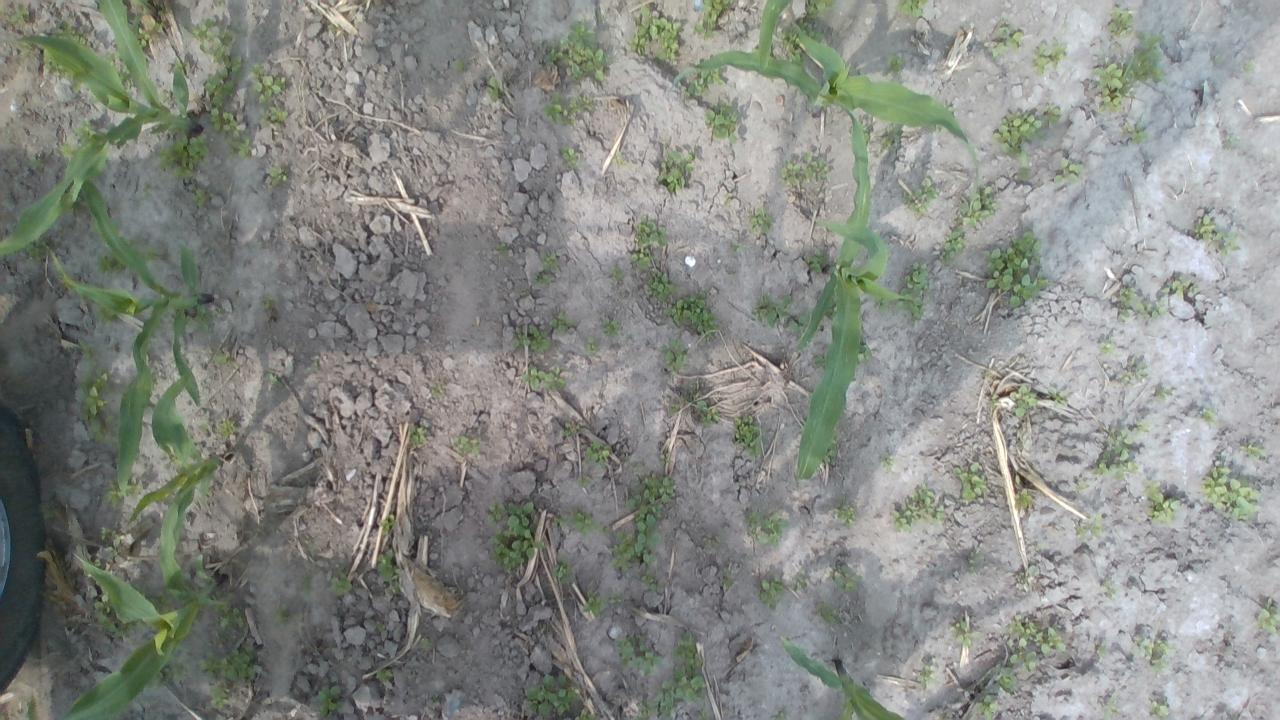Maize: (44, 176, 212, 505), (671, 25, 984, 198), (0, 0, 202, 263), (790, 88, 914, 484), (52, 552, 225, 720), (126, 369, 229, 603), (778, 636, 909, 720), (756, 0, 797, 73)
Weeds: (979, 229, 1050, 308), (191, 16, 246, 110), (624, 470, 676, 568), (656, 630, 710, 720), (75, 337, 117, 447), (484, 498, 544, 574), (541, 18, 609, 83), (1197, 464, 1261, 520), (1008, 614, 1066, 672), (630, 3, 680, 65), (751, 294, 820, 338), (662, 286, 718, 340), (888, 484, 946, 534), (524, 670, 580, 720), (207, 104, 254, 163), (248, 62, 289, 128), (1124, 32, 1168, 90), (1092, 427, 1139, 481), (992, 108, 1042, 156), (155, 135, 207, 180), (614, 632, 664, 678), (196, 644, 256, 682), (892, 262, 931, 320), (91, 591, 134, 643), (1114, 283, 1168, 323), (1193, 214, 1241, 257), (701, 100, 744, 146), (780, 148, 830, 186), (1090, 61, 1126, 113), (655, 148, 695, 192), (543, 93, 593, 128), (744, 508, 790, 546), (796, 0, 836, 43), (1142, 480, 1180, 524), (549, 506, 601, 538), (958, 185, 998, 226), (691, 0, 732, 39), (202, 591, 245, 628), (950, 462, 988, 502), (146, 658, 190, 692), (1032, 36, 1071, 74), (732, 413, 764, 458), (376, 548, 406, 595), (606, 529, 638, 573), (182, 303, 226, 335), (686, 63, 726, 96), (990, 22, 1026, 58), (1140, 636, 1174, 674), (511, 324, 554, 354), (102, 48, 134, 88), (686, 388, 720, 424), (905, 178, 938, 215), (1006, 382, 1038, 419), (776, 27, 806, 66), (632, 216, 668, 248), (938, 228, 967, 267), (829, 564, 866, 594), (518, 365, 564, 389), (316, 681, 345, 718), (756, 574, 787, 608), (122, 236, 162, 262), (1102, 4, 1134, 36), (644, 270, 678, 300), (660, 340, 690, 374), (991, 662, 1018, 695), (53, 22, 87, 48), (1158, 276, 1202, 296), (584, 440, 613, 470), (951, 620, 984, 646), (126, 14, 150, 49), (1075, 511, 1107, 537), (1052, 159, 1083, 185), (973, 689, 999, 720), (748, 206, 776, 234), (1257, 602, 1280, 636), (1119, 362, 1149, 388), (581, 590, 607, 619), (830, 500, 856, 528), (822, 430, 844, 462), (894, 0, 930, 19), (72, 116, 98, 142), (94, 253, 126, 274), (803, 248, 829, 273), (877, 124, 904, 148), (208, 682, 232, 708), (102, 482, 125, 509), (918, 660, 941, 686), (454, 433, 481, 455), (550, 311, 578, 332), (21, 236, 50, 256), (328, 571, 353, 594), (818, 605, 844, 627), (557, 144, 579, 170), (884, 52, 907, 75), (552, 559, 574, 583), (42, 52, 66, 74), (1040, 102, 1061, 127), (632, 700, 658, 720), (484, 77, 506, 100), (267, 166, 289, 188), (600, 318, 624, 338), (630, 250, 653, 270), (1014, 487, 1034, 510), (1148, 700, 1171, 720), (640, 568, 659, 592), (409, 424, 431, 444), (719, 568, 739, 590), (1242, 442, 1266, 460), (1016, 153, 1032, 180), (60, 142, 84, 160), (192, 188, 212, 209), (855, 342, 875, 362), (1102, 695, 1118, 720), (378, 513, 396, 535), (879, 449, 896, 472), (1128, 126, 1148, 144), (1050, 391, 1070, 408), (212, 350, 232, 366), (534, 272, 556, 286), (1100, 338, 1118, 355), (126, 479, 144, 496), (274, 605, 290, 624), (1020, 566, 1040, 581), (7, 10, 28, 24), (585, 337, 601, 355), (876, 295, 892, 313), (608, 592, 624, 609), (260, 293, 274, 312), (790, 576, 806, 592), (1132, 420, 1152, 432), (1093, 642, 1108, 658), (376, 668, 394, 681), (575, 477, 595, 488), (814, 354, 828, 369), (222, 420, 237, 434), (1202, 408, 1218, 421), (541, 253, 558, 265), (967, 550, 984, 562), (862, 124, 873, 142), (610, 266, 624, 280), (452, 60, 466, 74), (1240, 60, 1256, 71), (577, 710, 594, 720), (431, 382, 442, 397), (30, 158, 46, 168), (1158, 388, 1170, 401), (420, 638, 432, 650), (99, 526, 111, 538), (495, 241, 509, 251), (564, 422, 574, 436), (734, 242, 748, 252), (269, 373, 279, 385), (774, 710, 786, 720), (990, 394, 1001, 404), (671, 403, 681, 412), (1224, 136, 1234, 145)
